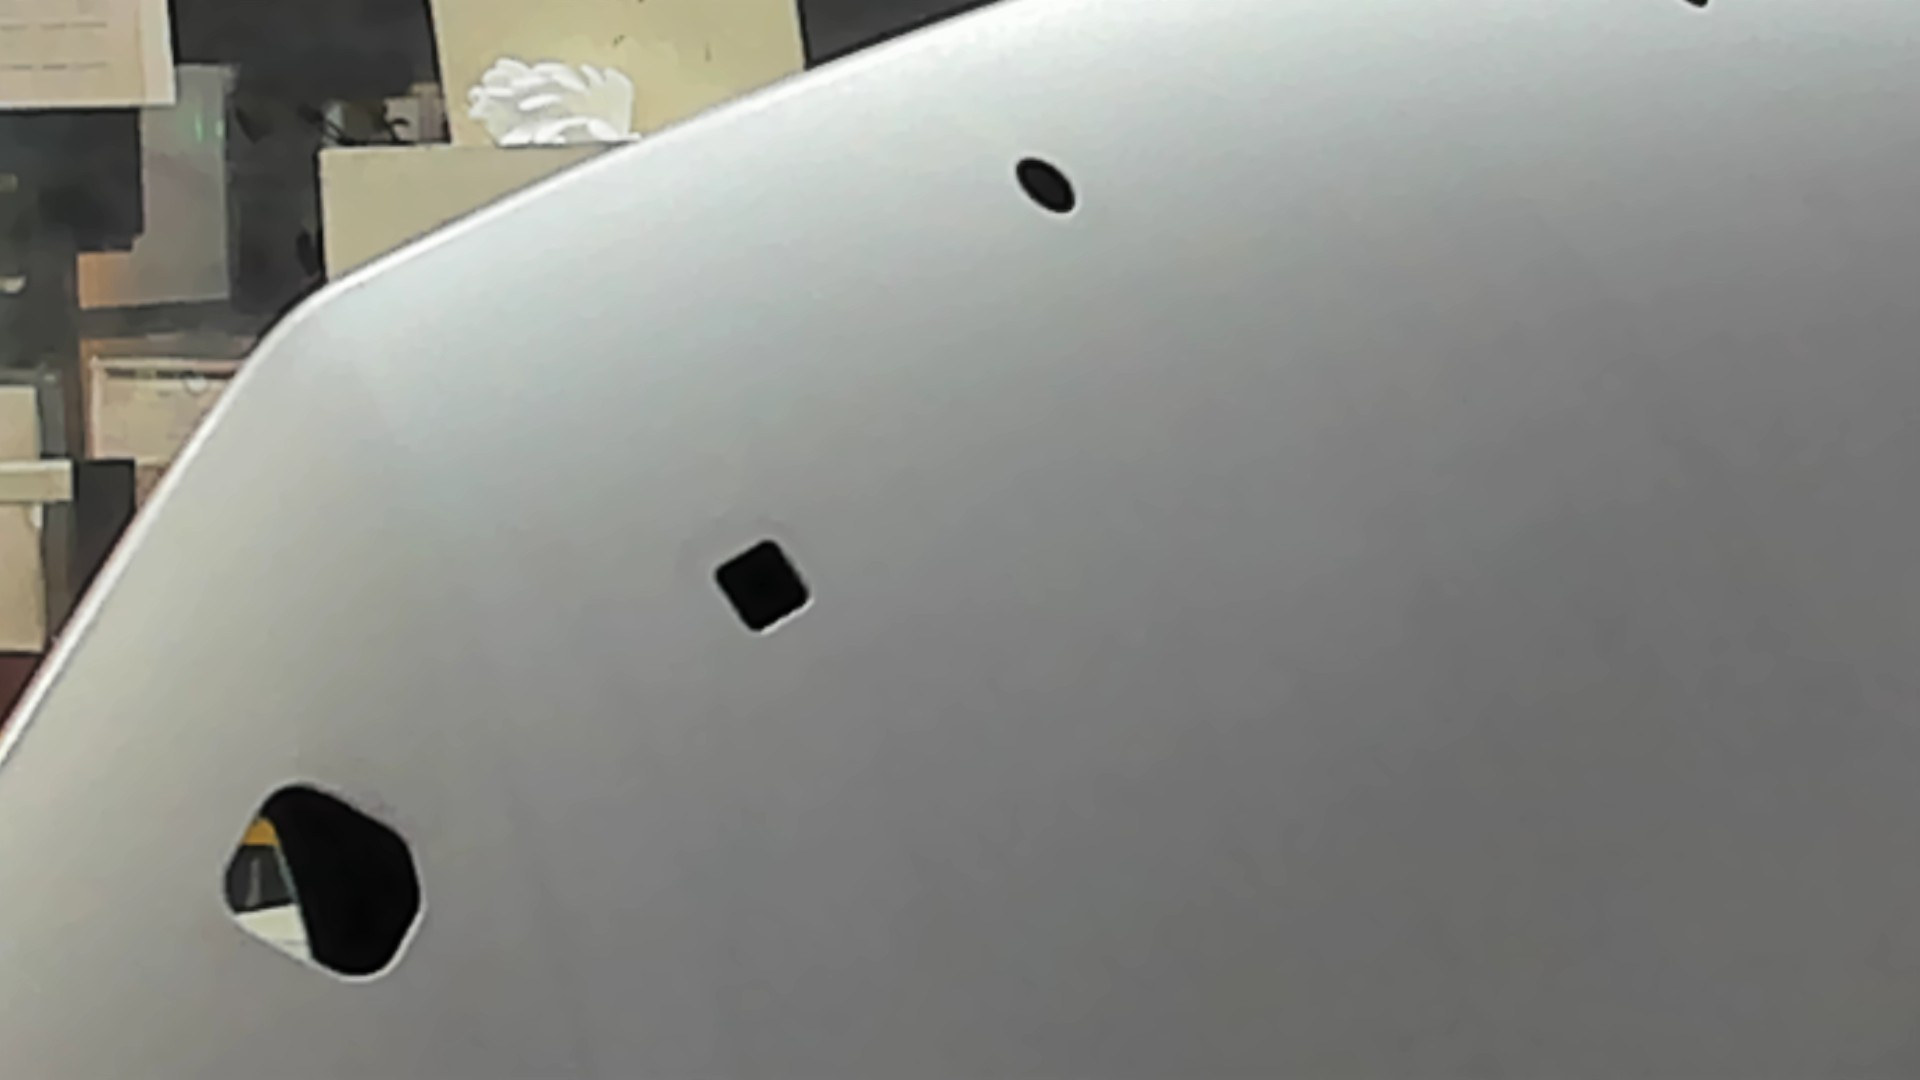Agujero: (711, 538, 811, 634), (1014, 156, 1077, 214)
Agujerote: (222, 781, 427, 984)
